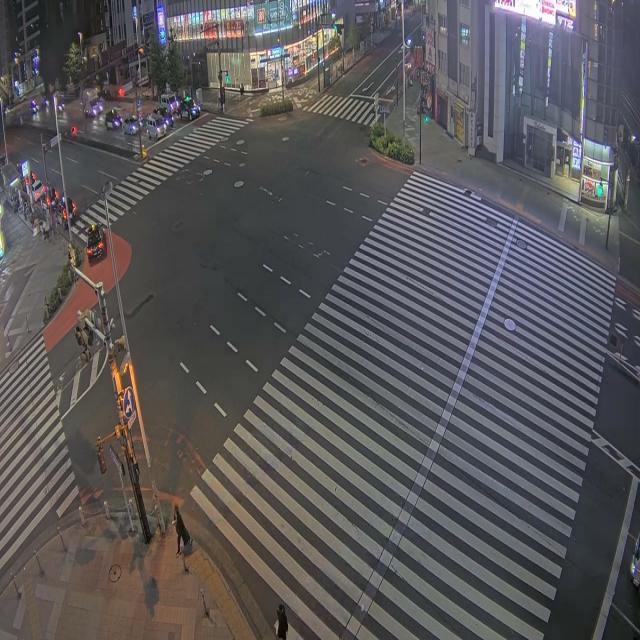car: (86, 224, 105, 262), (146, 114, 166, 140), (178, 96, 200, 119), (154, 105, 174, 127), (122, 116, 140, 135), (105, 109, 121, 128), (33, 180, 46, 201), (85, 106, 97, 119)
van: (160, 94, 178, 113)
